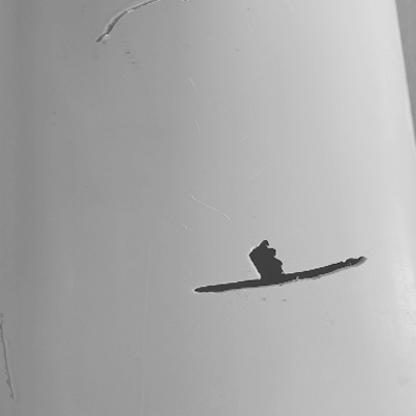fengxi: (195, 255, 366, 294), (96, 1, 161, 43)
kongdong: (247, 239, 289, 277)
